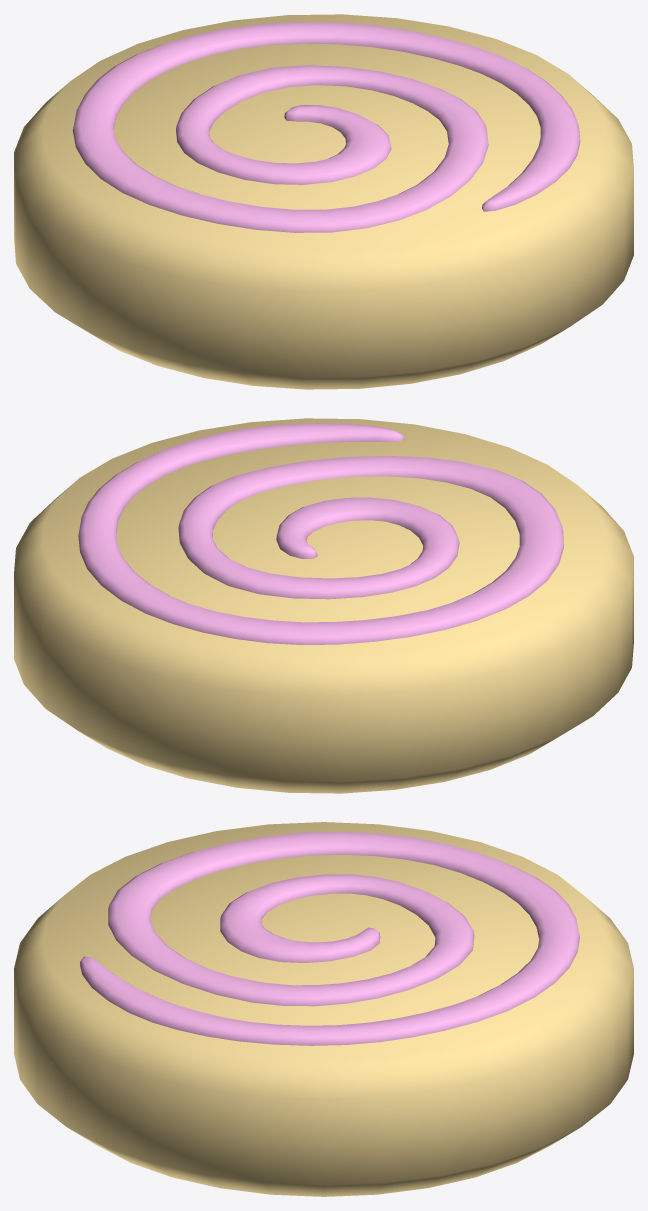
The model's file is testessss.fbx.
3 renders of one model, top to bottom at view 1: azimuth 30°, elevation 25°; view 2: azimuth 150°, elevation 25°; view 3: azimuth 270°, elevation 25°, orthographic.
Visible parts, largest first — view 1: sweet, sweet_cream; view 2: sweet, sweet_cream; view 3: sweet, sweet_cream.
Part boxes in pixels (box(x1,y1,x2,y2)): sweet: box(14, 14, 633, 389); sweet_cream: box(72, 22, 580, 232); sweet: box(14, 418, 633, 793); sweet_cream: box(78, 423, 563, 644); sweet: box(14, 822, 633, 1196); sweet_cream: box(80, 831, 579, 1045).
Size of the model in its own units: 30.16 by 8.59 by 30.16.
